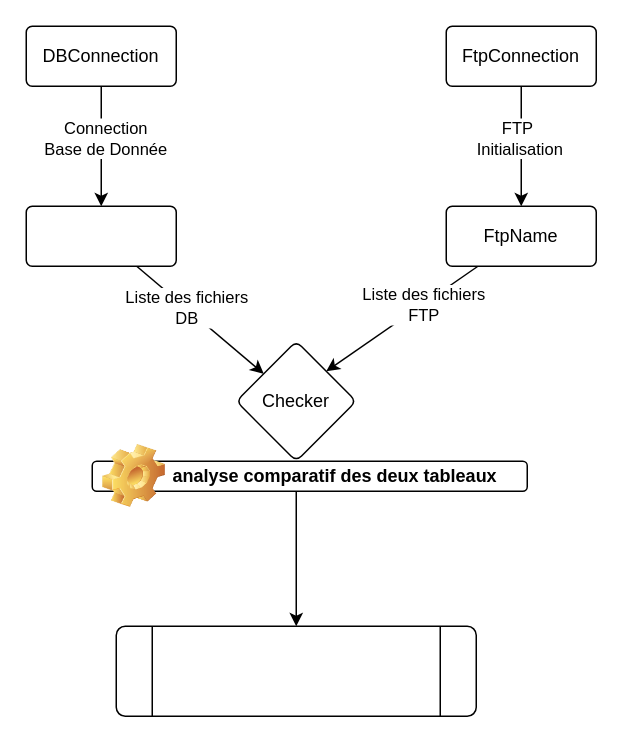
Image size: 623x743. Some labels were removed from this diagram. Each missing label, with the box of its shape:
affichage liste des fichiers non trouvés: (115, 625, 476, 716)
Table: (25, 205, 176, 266)
